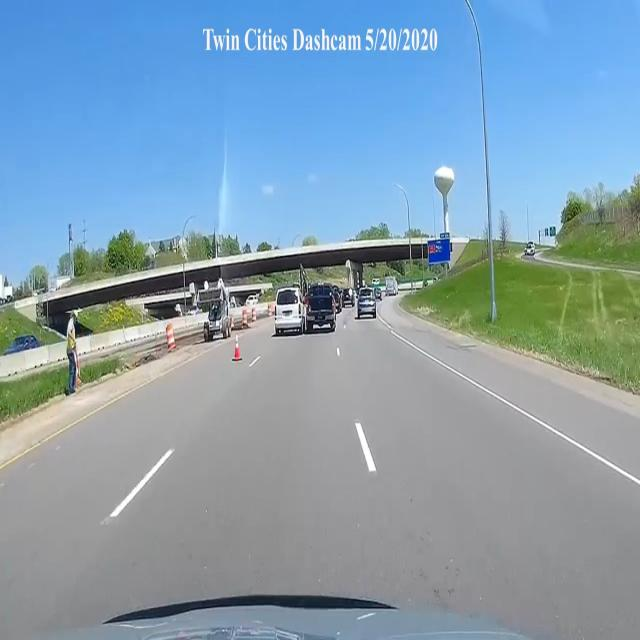Traffic Cone: (230, 332, 242, 363)
